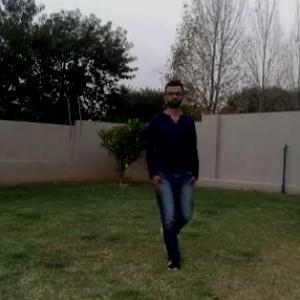follow: (154, 92, 194, 252)
